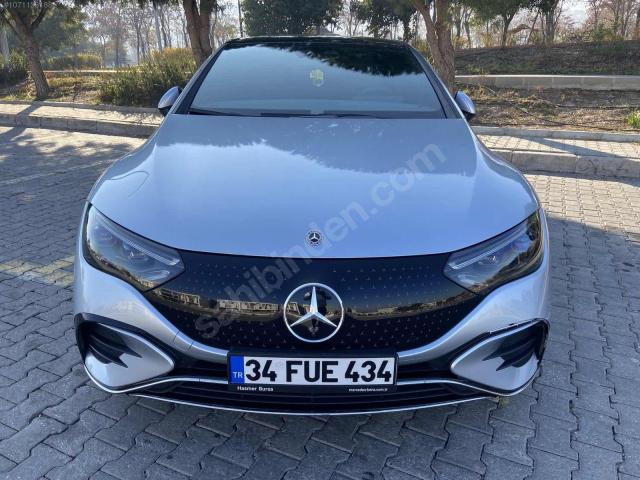plaka: (231, 356, 396, 389)
